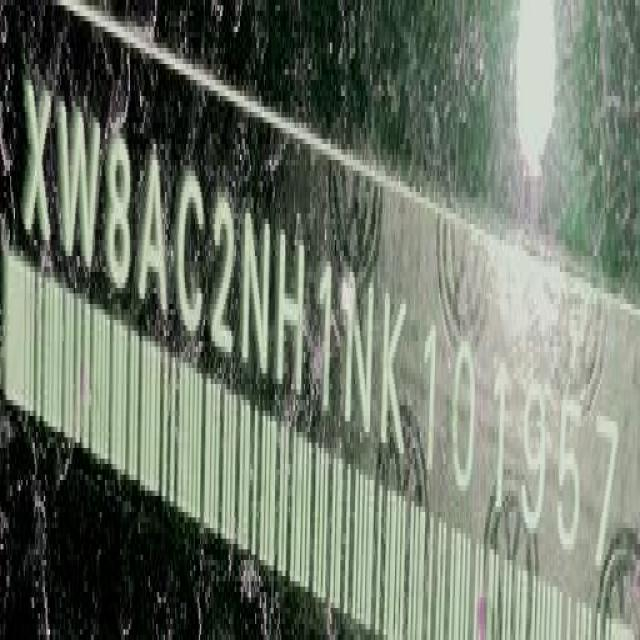0: (452, 344, 479, 505)
1: (420, 317, 440, 486), (315, 247, 333, 417), (493, 352, 507, 518)
2: (210, 196, 237, 368)
5: (554, 393, 582, 567)
7: (594, 408, 622, 592)
8: (107, 127, 134, 296), (522, 377, 548, 548)
A: (140, 144, 171, 322)
C: (178, 167, 206, 346)
H: (278, 220, 307, 402)
N: (343, 264, 376, 440), (241, 215, 274, 388)
W: (59, 91, 98, 283)
X: (23, 78, 52, 266), (383, 286, 412, 468)
